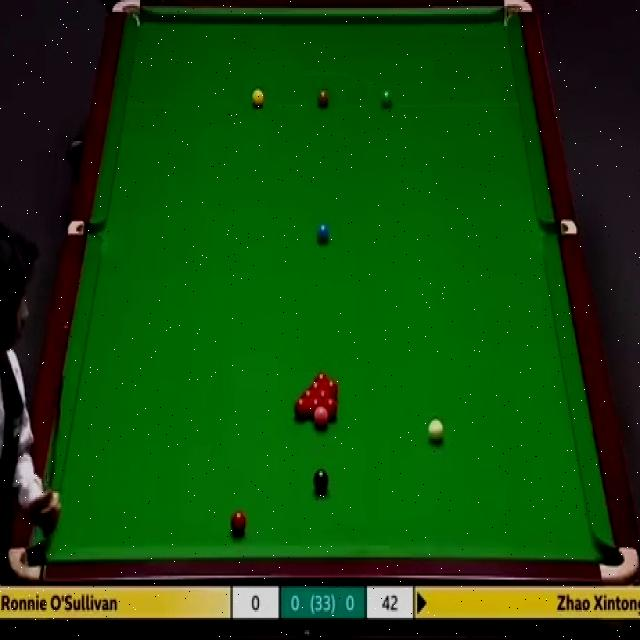black-ball: (312, 468, 329, 497)
blue-ball: (316, 221, 331, 245)
brown-ball: (317, 89, 330, 110)
green-ball: (381, 89, 395, 110)
pink-ball: (314, 406, 329, 429)
red-ball: (230, 508, 248, 536), (292, 399, 308, 422), (323, 398, 338, 422), (309, 398, 324, 418), (323, 379, 339, 397), (300, 388, 319, 400), (314, 389, 331, 401), (314, 370, 328, 382), (310, 380, 324, 390)
white-ball: (428, 416, 445, 445)
yellow-ball: (251, 88, 265, 109)
